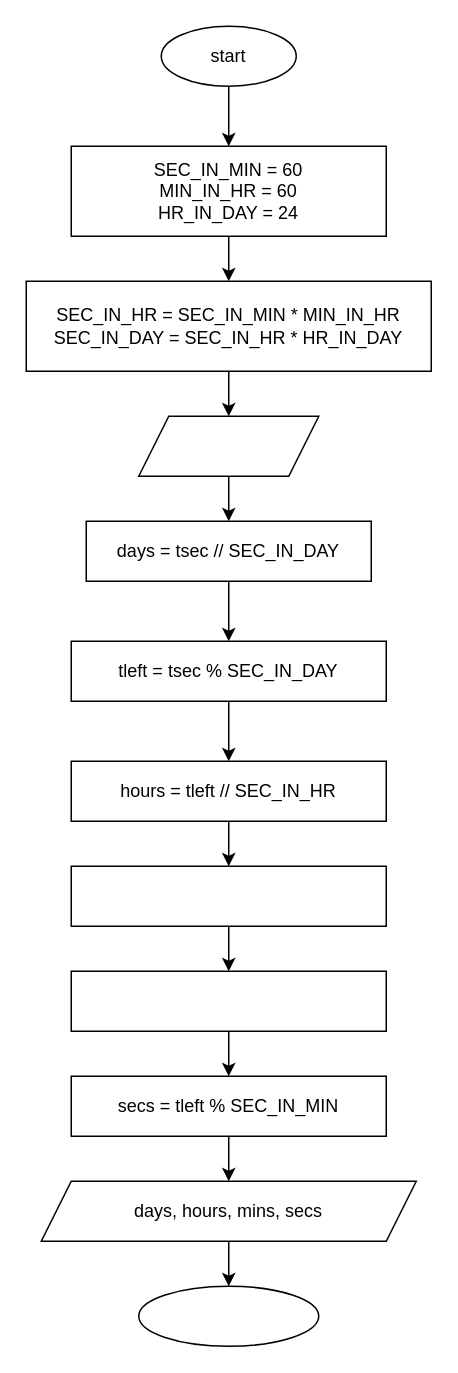
Image size: 458x1373. Some labels were removed from this diagram. The shapes that lost their labels are listed below. From the top down, each one's box as (x1, y1, x2, y2) in pixels, then its label:
(137, 415, 319, 476): tsec
(70, 865, 386, 926): tleft = tleft % SEC_IN_HR
(70, 970, 386, 1031): mins = tleft // SEC_IN_MIN
(137, 1285, 319, 1346): end
